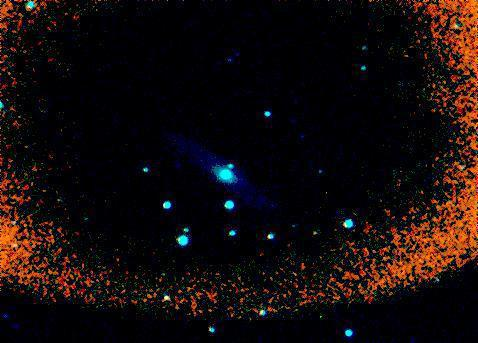star: (216, 165, 246, 195)
